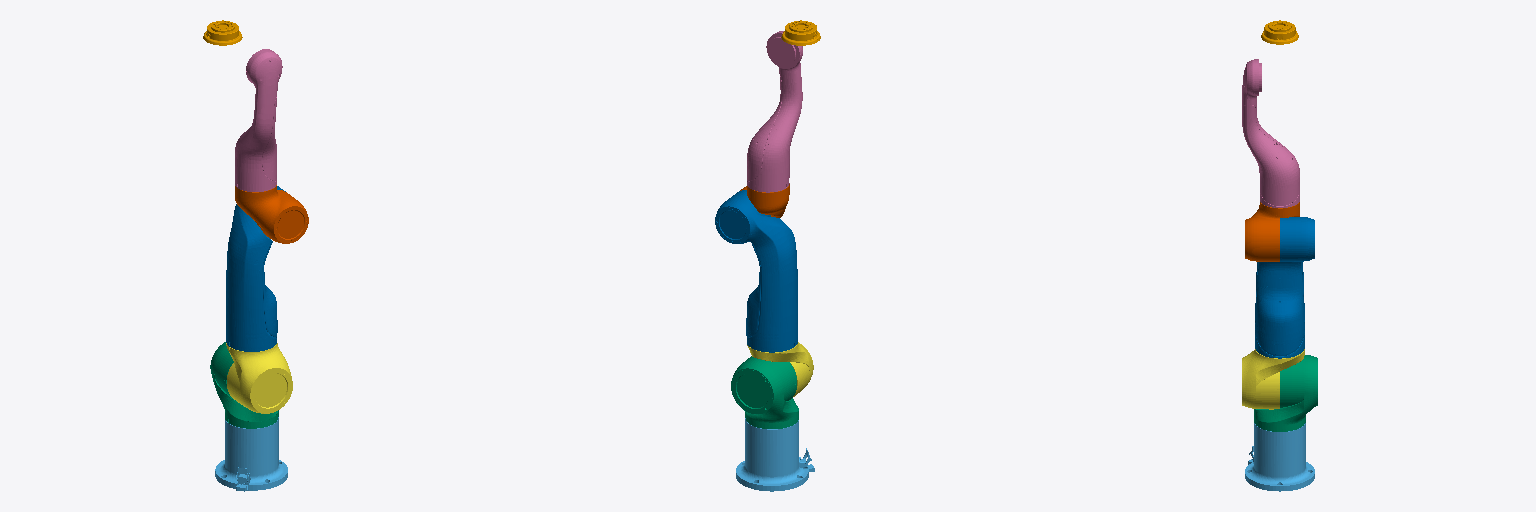
The robot description file, URDF, robot "diana7":
<robot name="diana7">
  <link name="world"/>
  <joint name="arm_to_world_fixed" type="fixed">
    <parent link="world"/>
    <child link="base_link"/>
    <origin xyz="0 0 0" rpy="0 0 0" />
  </joint>
  <link name="base_link">
    <inertial>
      <origin rpy="0 0 0" xyz="0.0 0.0 0.0"/>
      <mass value="5.0"/>
      <inertia ixx="0.0" ixy="0.0" ixz="0.0" iyy="0.0" iyz="0.0" izz="0.0"/>
    </inertial>
    <visual>
      <origin rpy="0 0 0" yz="0 0 0"/>
      <geometry>
        <mesh filename="./meshes/visual/base_link.obj"/>
      </geometry>
    </visual>
    <collision>
      <origin rpy="0 0 0" xyz="0 0 0"/>
      <geometry>
        <mesh filename="./meshes/collision/base_link.STL"/>
      </geometry>
    </collision>
  </link>
  <joint name="joint1" type="revolute">
    <origin rpy="3.14159265359 -0.0 -0.0" xyz="0.0 3.49759125836e-17 0.2856"/>
    <parent link="base_link"/>
    <child link="link1"/>
    <axis xyz="0 0 1"/>
    <limit effort="235.0" lower="-3.12413936107" upper="3.12413936107" velocity="3.14159265359"/>
    <dynamics damping="0.0" friction="0.1"/>
  </joint>
  <link name="link1">
    <inertial>
      <origin rpy="0 0 0" xyz="-0.000017 0.000007 0.033580"/>
      <mass value="5.299828"/>
      <inertia ixx="0.029705" ixy="-0.000039" ixz="-0.000024" iyy="0.026880" iyz="-0.000070" izz="0.015918"/>
    </inertial>
    <visual>
      <origin rpy="0 0 0" xyz="0 0 0"/>
      <geometry>
        <mesh filename="./meshes/visual/link1.obj"/>
      </geometry>
    </visual>
    <collision>
      <origin rpy="0 0 0" xyz="0 0 0"/>
      <geometry>
        <mesh filename="./meshes/collision/link1.STL"/>
      </geometry>
    </collision>
  </link>
  <joint name="joint2" type="revolute">
    <origin rpy="1.57079632679 -0.0 0.0" xyz="0.0 -0.0 0.0"/>
    <parent link="link1"/>
    <child link="link2"/>
    <axis xyz="0 0 1"/>
    <limit effort="235.0" lower="-1.57079632679" upper="1.57079632679" velocity="3.14159265359"/>
    <dynamics damping="0.0" friction="0.1"/>
  </joint>
  <link name="link2">
    <inertial>
      <origin rpy="0 0 0" xyz="-0.000015 -0.046026 -0.035713"/>
      <mass value="3.246370"/>
      <inertia ixx="0.020388" ixy="-0.000002" ixz="-0.000000" iyy="0.009309" iyz="0.005307" izz="0.018930"/>
    </inertial>
    <visual>
      <origin rpy="0 0 0" xyz="0 0 0"/>
      <geometry>
        <mesh filename="./meshes/visual/link2.obj"/>
      </geometry>
    </visual>
    <collision>
      <origin rpy="0 0 0" xyz="0 0 0"/>
      <geometry>
        <mesh filename="./meshes/collision/link2.STL"/>
      </geometry>
    </collision>
  </link>
  <joint name="joint3" type="revolute">
    <origin rpy="-1.57079632679 0.0 0.0" xyz="0.0 -0.4586 -2.80811511044e-17"/>
    <parent link="link2"/>
    <child link="link3"/>
    <axis xyz="0 0 1"/>
    <limit effort="111.0" lower="-3.12413936107" upper="3.12413936107" velocity="3.14159265359"/>
    <dynamics damping="0.0" friction="0.1"/>
  </joint>
  <link name="link3">
    <inertial>
      <origin rpy="0 0 0" xyz="0.027041 0.001592 0.140231"/>
      <mass value="5.231815"/>
      <inertia ixx="0.117623" ixy="-0.000425" ixz="0.021147" iyy="0.121236" iyz="0.001127" izz="0.019132"/>
    </inertial>
    <visual>
      <origin rpy="0 0 0" xyz="0 0 0"/>
      <geometry>
        <mesh filename="./meshes/visual/link3.obj"/>
      </geometry>
    </visual>
    <collision>
      <origin rpy="0 0 0" xyz="0 0 0"/>
      <geometry>
        <mesh filename="./meshes/collision/link3.STL"/>
      </geometry>
    </collision>
  </link>
  <joint name="joint4" type="revolute">
    <origin rpy="1.57079632679 -0.0 0.0" xyz="0.065 -0.0 0.0"/>
    <parent link="link3"/>
    <child link="link4"/>
    <axis xyz="0 0 1"/>
    <limit effort="111.0" lower="0.0" upper="3.05432619099" velocity="3.14159265359"/>
    <dynamics damping="0.0" friction="0.1"/>
  </joint>
  <link name="link4">
    <inertial>
      <origin rpy="0 0 0" xyz="-0.026110 -0.042551 -0.029657"/>
      <mass value="1.940060"/>
      <inertia ixx="0.009292" ixy="-0.002304" ixz="0.001465" iyy="0.005983" iyz="0.002463" izz="0.009392"/>
    </inertial>
    <visual>
      <origin rpy="0 0 0" xyz="0 0 0"/>
      <geometry>
        <mesh filename="./meshes/visual/link4.obj"/>
      </geometry>
    </visual>
    <collision>
      <origin rpy="0 0 0" xyz="0 0 0"/>
      <geometry>
        <mesh filename="./meshes/collision/link4.STL"/>
      </geometry>
    </collision>
  </link>
  <joint name="joint5" type="revolute">
    <origin rpy="-1.57079632679 0.0 0.0" xyz="-0.0528 -0.4554 -2.78852076166e-17"/>
    <parent link="link4"/>
    <child link="link5"/>
    <axis xyz="0 0 1"/>
    <limit effort="54.0" lower="-3.12413936107" upper="3.12413936107" velocity="3.14159265359"/>
    <dynamics damping="0.0" friction="0.1"/>
  </joint>
  <link name="link5">
    <inertial>
      <origin rpy="0 0 0" xyz="-0.006541 0.023619 0.193770"/>
      <mass value="2.678626"/>
      <inertia ixx="0.063743" ixy="0.000512" ixz="-0.002363" iyy="0.061192" iyz="0.008513" izz="0.006265"/>
    </inertial>
    <visual>
      <origin rpy="0 0 0" xyz="0 0 0"/>
      <geometry>
        <mesh filename="./meshes/visual/link5.obj"/>
      </geometry>
    </visual>
    <collision>
      <origin rpy="0 0 0" xyz="0 0 0"/>
      <geometry>
        <mesh filename="./meshes/collision/link5.STL"/>
      </geometry>
    </collision>
  </link>
  <joint name="joint6" type="revolute">
    <origin rpy="1.57079632679 1.22464679915e-16 3.14159265359" xyz="-0.0122 -0.0 -0.0"/>
    <parent link="link5"/>
    <child link="link6"/>
    <axis xyz="0 0 1"/>
    <limit effort="54.0" lower="-3.12413936107" upper="3.12413936107" velocity="3.14159265359"/>
    <dynamics damping="0.0" friction="0.1"/>
  </joint>
  <link name="link6">
    <inertial>
      <origin rpy="0 0 0" xyz="0.048158 -0.015440 0.001272"/>
      <mass value="2.856811"/>
      <inertia ixx="0.007152" ixy="0.001764" ixz="0.000167" iyy="0.010739" iyz="-0.000053" izz="0.011456"/>
    </inertial>
    <visual>
      <origin rpy="0 0 0" xyz="0 0 0"/>
      <geometry>
        <mesh filename="./meshes/visual/link6.obj"/>
      </geometry>
    </visual>
    <collision>
      <origin rpy="0 0 0" xyz="0 0 0"/>
      <geometry>
        <mesh filename="./meshes/collision/link6.STL"/>
      </geometry>
    </collision>
  </link>
  <joint name="joint7" type="revolute">
    <origin rpy="-1.57079632679 0.0 0.0" xyz="0.087 -0.1169 -7.15806054102e-18"/>
    <parent link="link6"/>
    <child link="link7"/>
    <axis xyz="0 0 1"/>
    <limit effort="54.0" lower="-3.12413936107" upper="3.12413936107" velocity="3.14159265359"/>
    <dynamics damping="0.0" friction="0.1"/>
  </joint>
  <link name="link7">
    <inertial>
      <origin rpy="0 0 0" xyz="0.000488 0.000000 0.038260"/>
      <mass value="0.575995"/>
      <inertia ixx="0.000876" ixy="0.000000" ixz="0.000006" iyy="0.000891" iyz="-0.000000" izz="0.000481"/>
    </inertial>
    <visual>
      <origin rpy="0 0 0" xyz="0 0 0"/>
      <geometry>
        <mesh filename="./meshes/visual/link7.obj"/>
      </geometry>
    </visual>
    <collision>
      <origin rpy="0 0 0" xyz="0 0 0"/>
      <geometry>
        <mesh filename="./meshes/collision/link7.STL"/>
      </geometry>
    </collision>
  </link>
  <joint name="dianaEEJoint" type="fixed">
      <origin xyz="0.1 0 0" rpy="0 0 0" />
      <parent link="link7" />
      <child link="dianaEE" />
	</joint>
	<link name="dianaEE">
	</link>
</robot>

--- What the picture shows (computed from the rendered views, not written in the file) ---
The picture shows the robot from 3 angles, left to right: view 1: azimuth 30°, elevation 25°; view 2: azimuth 150°, elevation 25°; view 3: azimuth 270°, elevation 25°; orthographic projection.
Robot: diana7 — 10 links, 9 joints (7 revolute, 2 fixed); root link world; default pose: every joint at zero.
Visible links, largest first — view 1: link3, link5, base_link, link2, link4, link1, link7; view 2: link3, link5, base_link, link1, link2, link4, link7; view 3: link3, link5, base_link, link1, link2, link4, link7.
Boxes of the visible links, x1,y1,x2,y2 form: link3: (226, 186, 285, 351); link5: (235, 49, 282, 191); base_link: (215, 417, 287, 491); link2: (226, 343, 292, 413); link4: (235, 185, 308, 243); link1: (210, 342, 278, 428); link7: (203, 20, 242, 45); link3: (715, 190, 797, 352); link5: (747, 31, 802, 192); base_link: (736, 418, 814, 491); link1: (731, 356, 798, 428); link2: (747, 342, 813, 396); link4: (740, 184, 789, 217); link7: (781, 20, 820, 45); link3: (1255, 217, 1314, 358); link5: (1242, 59, 1299, 207); base_link: (1245, 423, 1314, 491); link1: (1254, 355, 1317, 431); link2: (1242, 349, 1304, 409); link4: (1245, 202, 1299, 261); link7: (1261, 20, 1298, 44).
Size in the robot's own frame: 0.2651 by 0.208 by 1.32 metres.
Meshes: 8 distinct files referenced, 7 mesh visuals loaded (7 OBJ); not drawn: 1 (reference not matched to a file when rendering).
